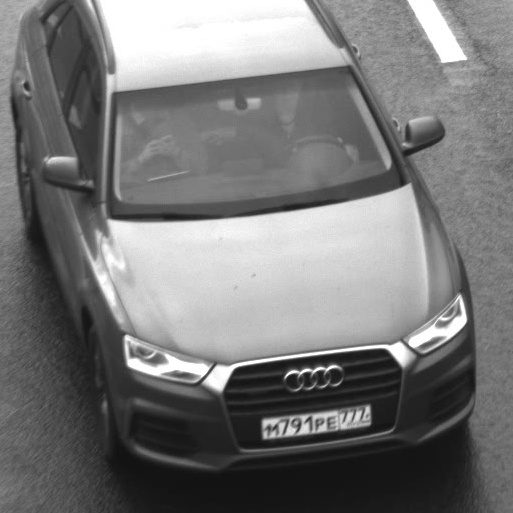plate: (250, 390, 380, 447)
